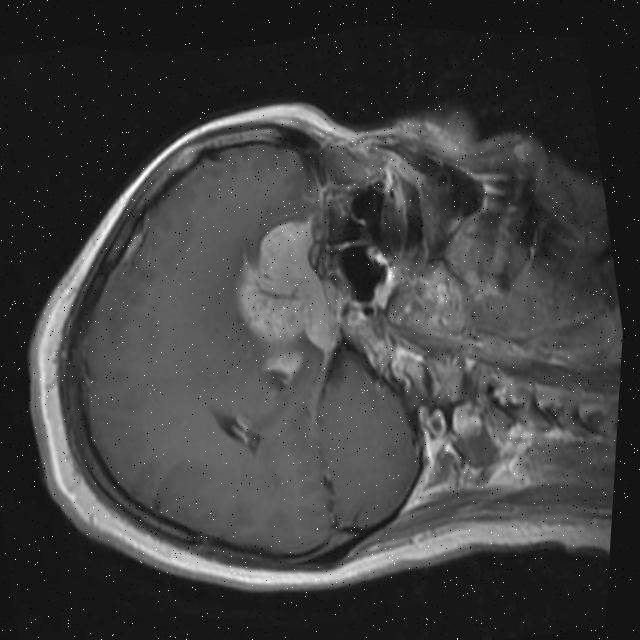Meningioma: (215, 204, 356, 394)
